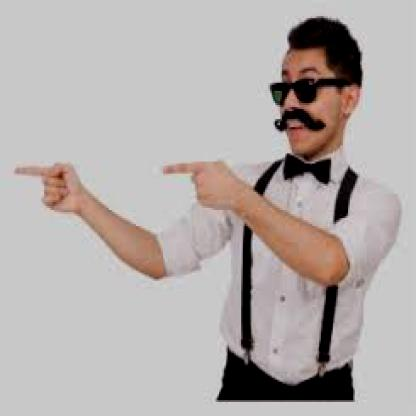Right: (151, 151, 256, 224), (7, 151, 87, 228)
